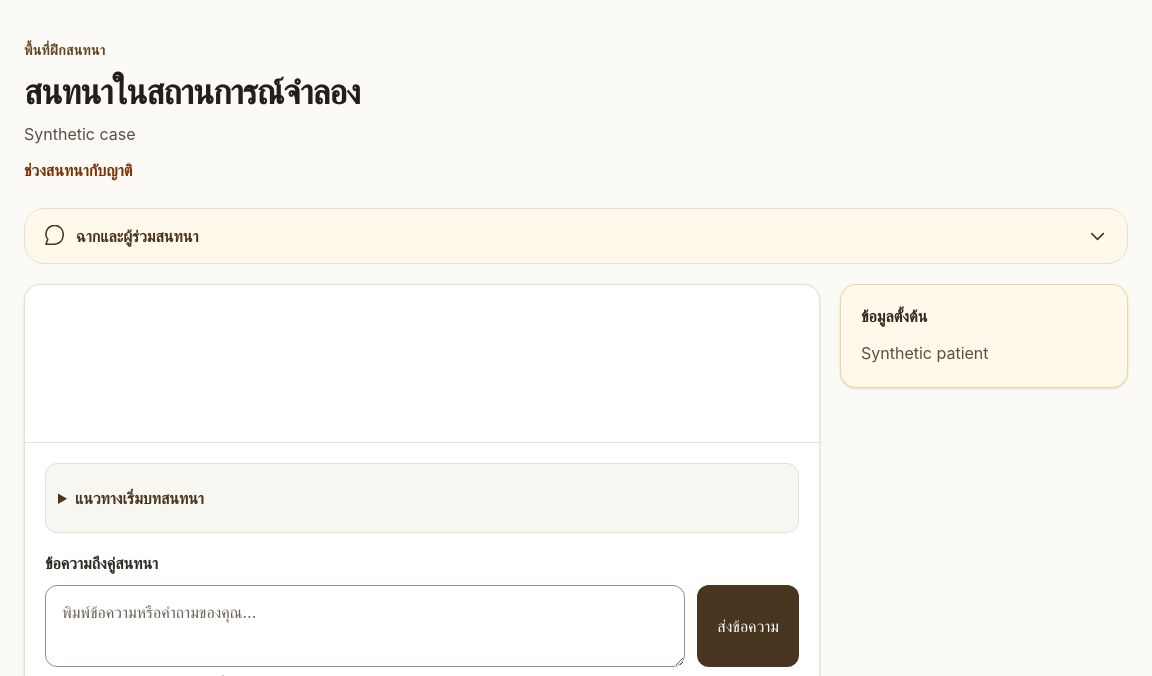
Test case: T-052 Closing and pressure handoff › lets the learner continue pressure chat then enter Closing
Check: the text "Synthetic patient" is shown, box [861,343,988,363]
Check: the text "ช่วงสนทนากับญาติ" is shown, box [24,160,132,180]
Step 1. Type "Response" into the text box labelled "ข้อความถึงคู่สนทนา" → (365, 626), box [45,585,685,667]
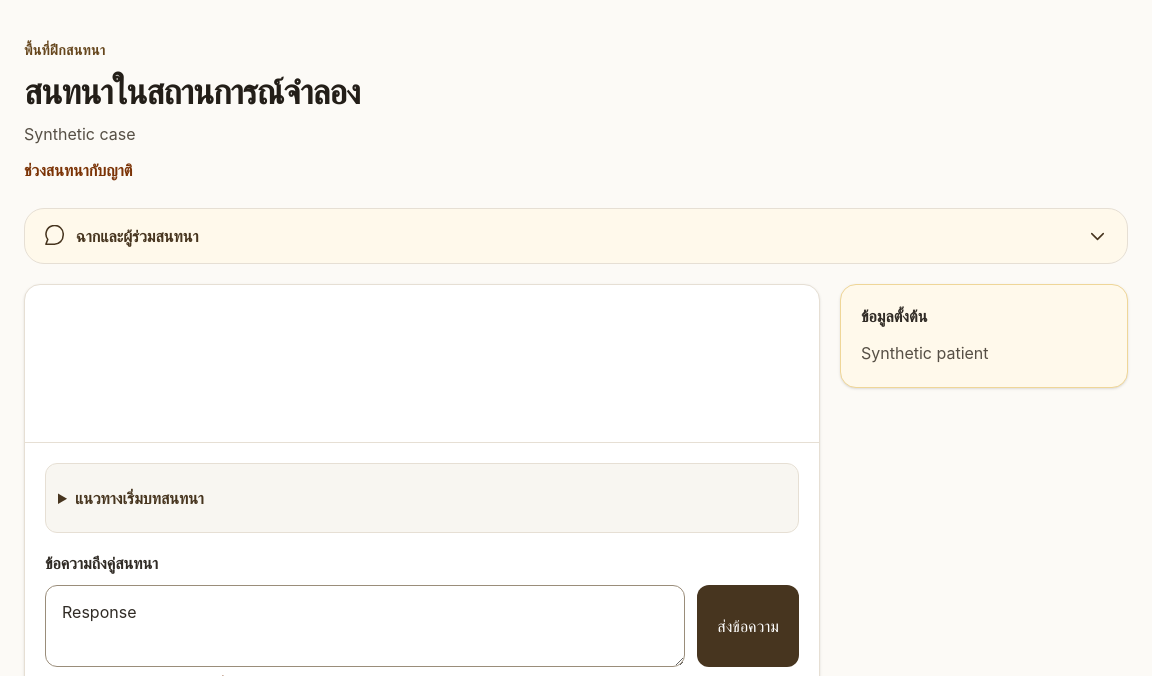
Step 2. Click the button "ส่งข้อความ" → (748, 626), box [697,585,799,667]
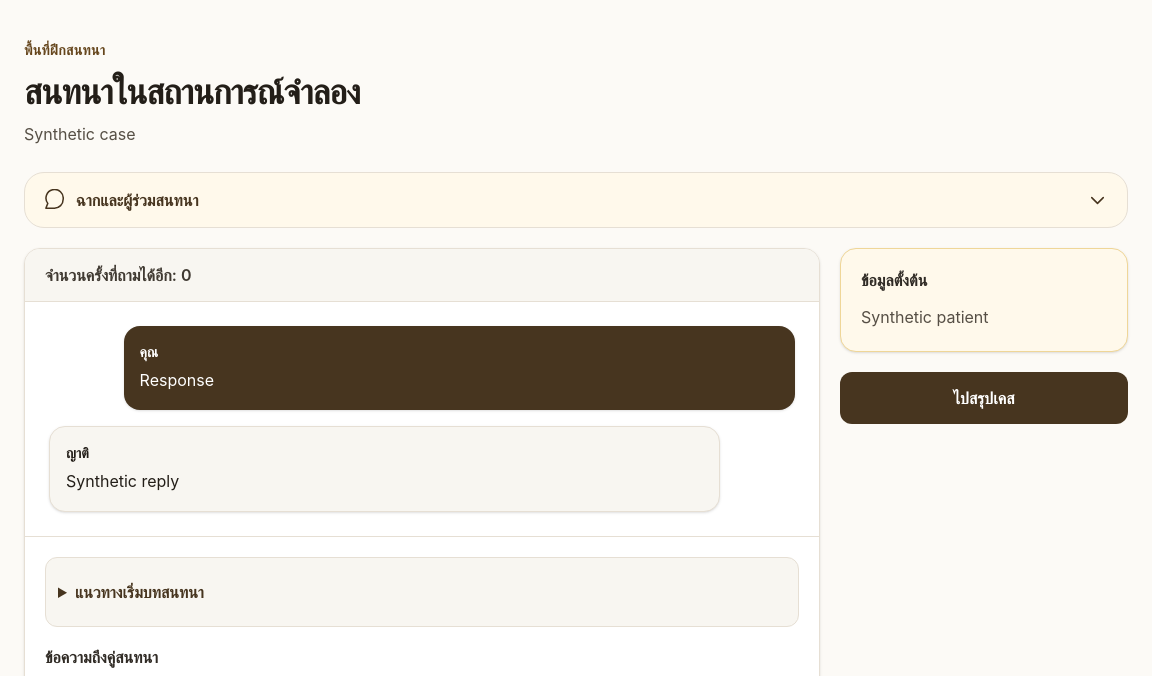
Check: the text "Synthetic reply" is shown, box [66,471,179,491]
